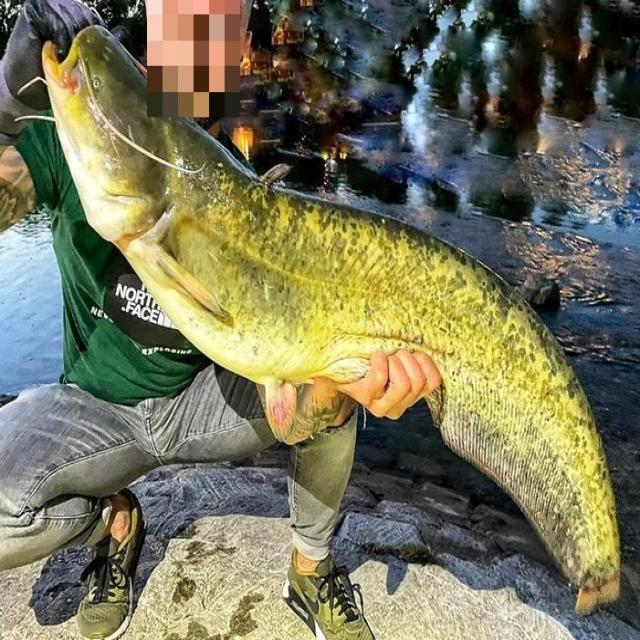Catfish: (33, 20, 638, 620)
